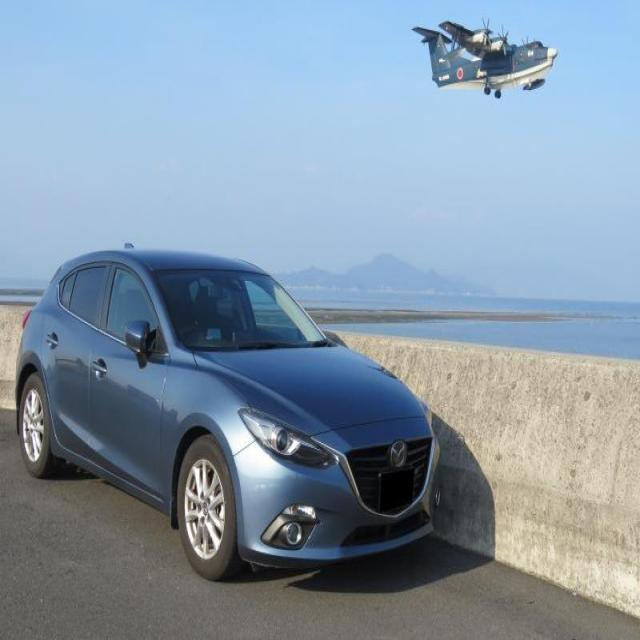MIL_Plane: (416, 16, 552, 100)
